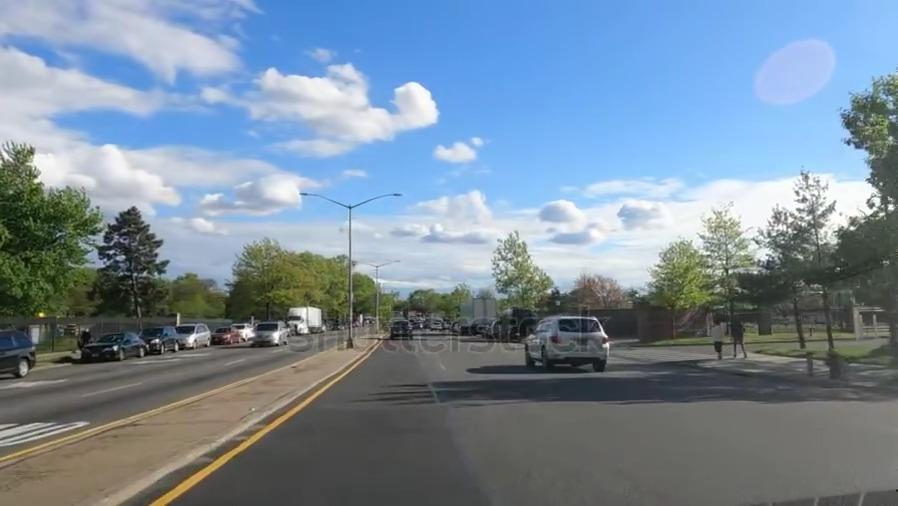car: (529, 305, 625, 378), (0, 328, 43, 381), (85, 333, 143, 358), (175, 327, 209, 349), (389, 317, 412, 345), (147, 326, 172, 351), (253, 326, 284, 344), (213, 327, 235, 344), (235, 323, 251, 343)
person: (731, 316, 751, 355), (709, 318, 726, 357), (79, 328, 89, 347)
truck: (289, 306, 327, 334)
